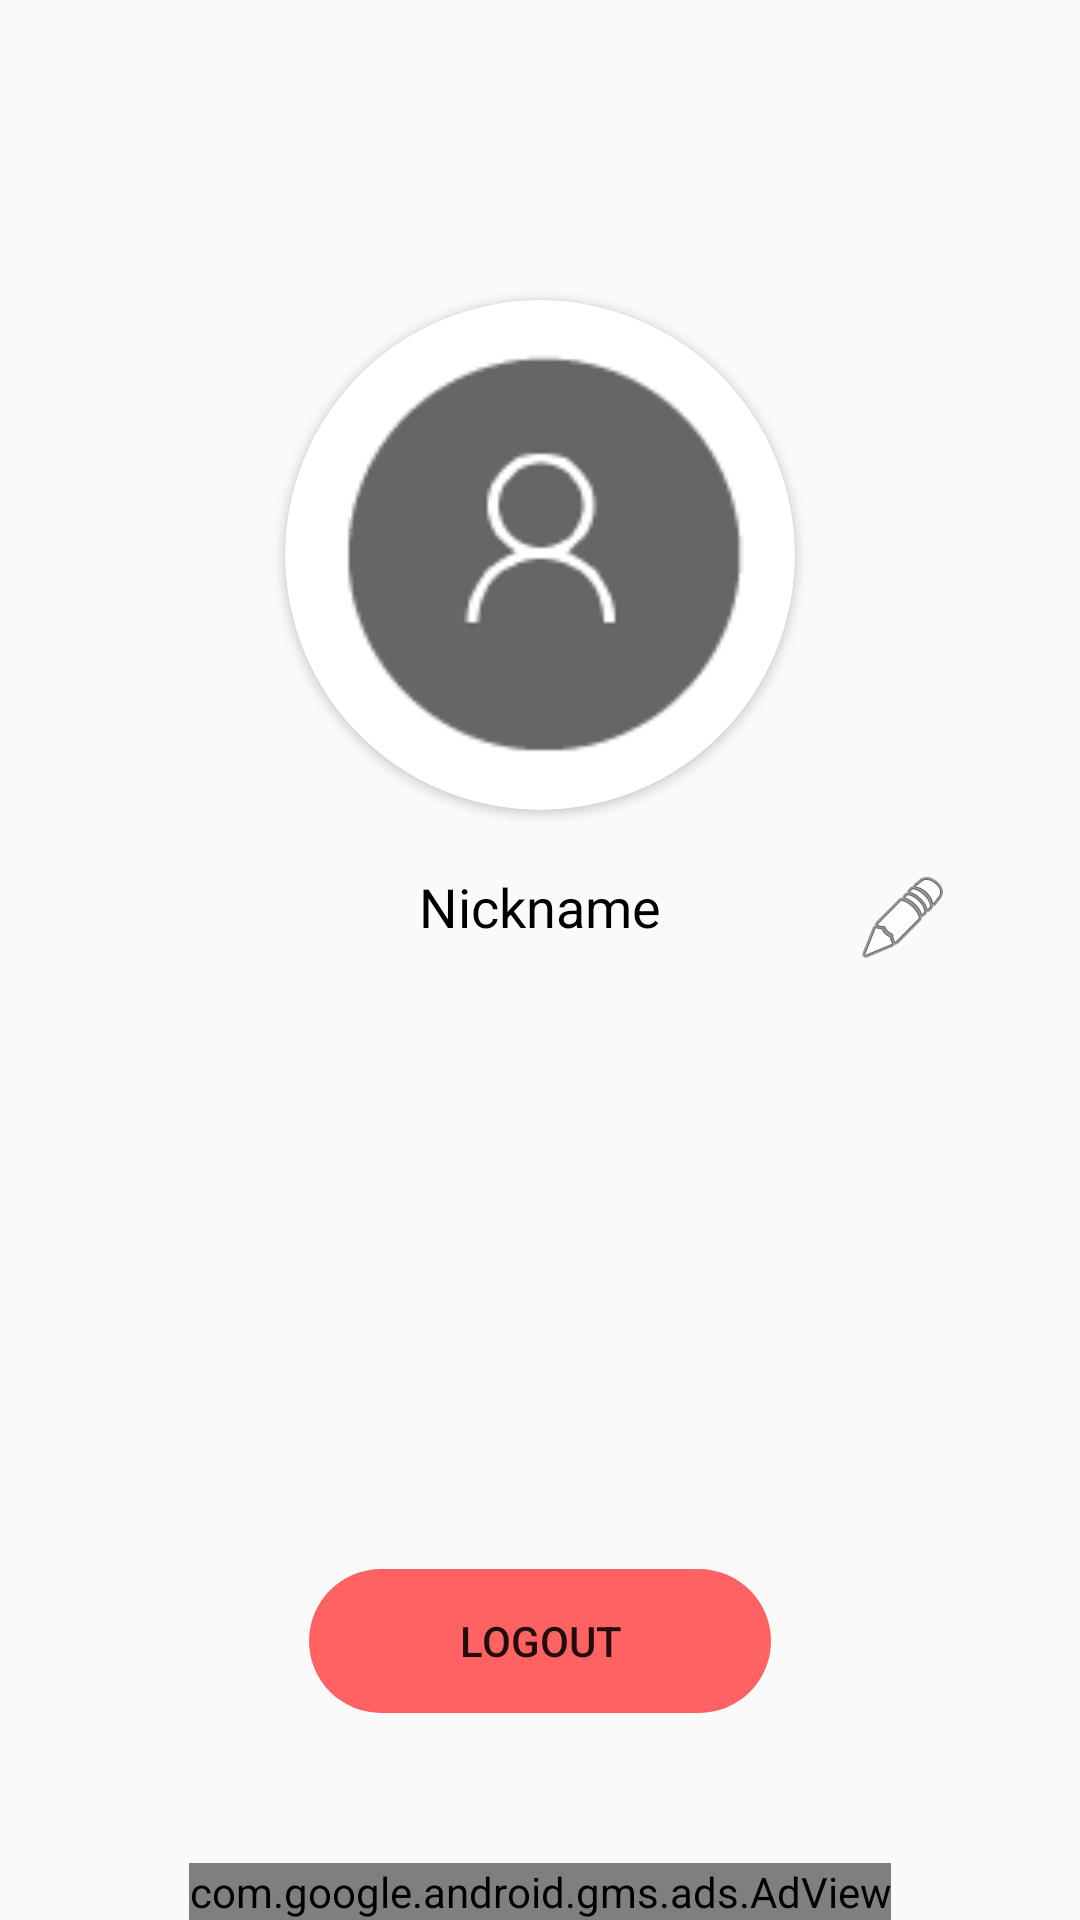

Icons on this 1080px x 1920px Android screen, each with its box as (x1, y1, x2, y2):
edit: (862, 877, 943, 958)
